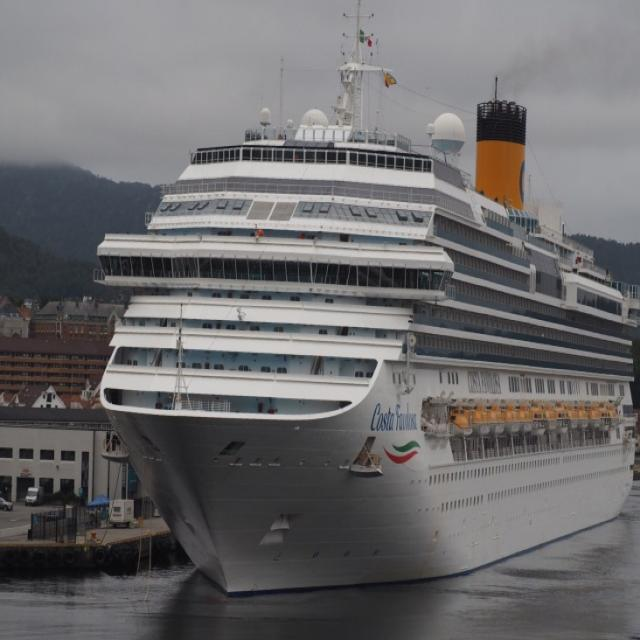cruises: (92, 13, 640, 608)
